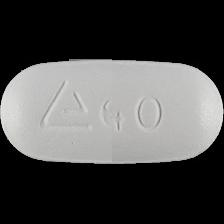52544-692: (0, 0, 224, 224)
